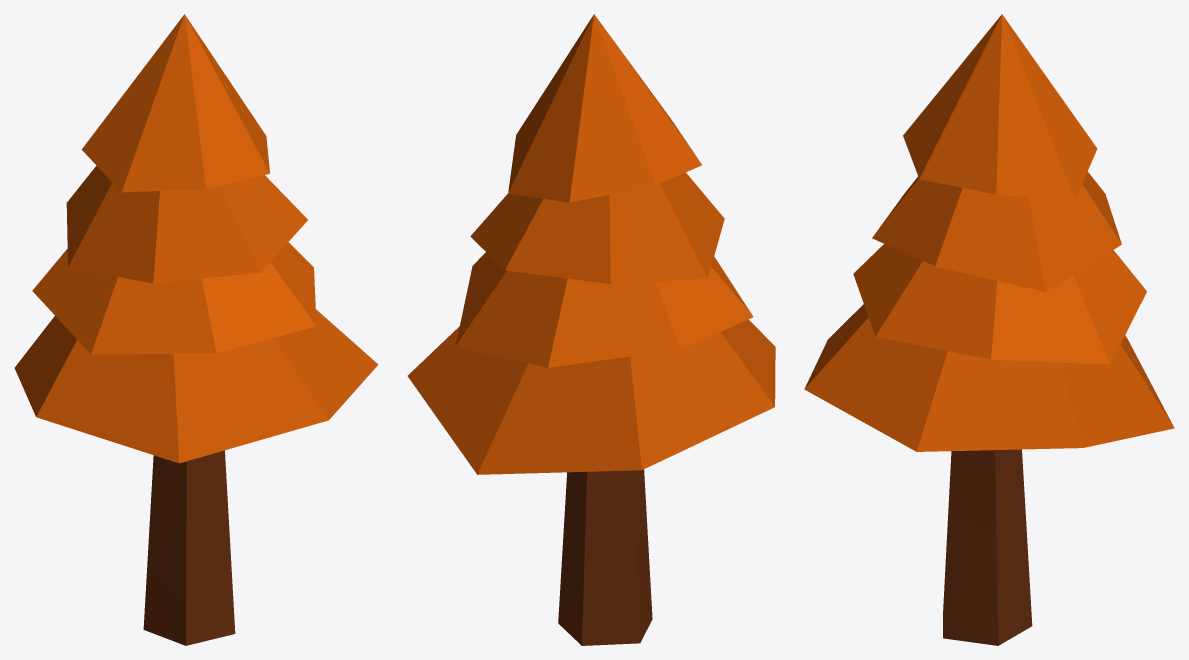
File: Tree_24_Fall.fbx
The picture shows the model from 3 angles, left to right: view 1: azimuth 30°, elevation 25°; view 2: azimuth 150°, elevation 25°; view 3: azimuth 270°, elevation 25°; orthographic projection. The views are drawn at different scales.
Parts seen in each view (by area): view 1: Tree_24_p2_Fall, Tree_24_p1_Fall; view 2: Tree_24_p2_Fall, Tree_24_p1_Fall; view 3: Tree_24_p2_Fall, Tree_24_p1_Fall.
Part boxes in pixels (x1,y1,x2,y2): Tree_24_p2_Fall: (14,14,378,463); Tree_24_p1_Fall: (143,450,235,645); Tree_24_p2_Fall: (407,14,775,474); Tree_24_p1_Fall: (558,469,652,645); Tree_24_p2_Fall: (804,14,1174,451); Tree_24_p1_Fall: (943,449,1032,645).
Size of the model in its own units: 183 by 337 by 184.
